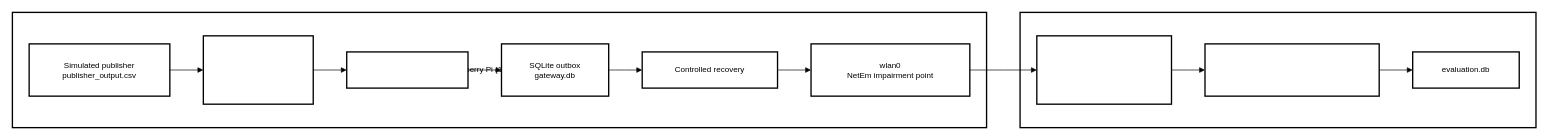
The diagram is 1548 pixels wide and 139 high, and some of its shapes have lost their labels. The shapes that lost their labels are listed below. From the top down, each one's centre as x and y in pixels, then its label:
At point 258,70: "Local broker Mosquitto localhost:1883".
At point 407,69: "Gateway process".
At point 1104,70: "Upstream broker Mosquitto 192.168.1.200:1883".
At point 1292,69: "Independent evaluation collector".
